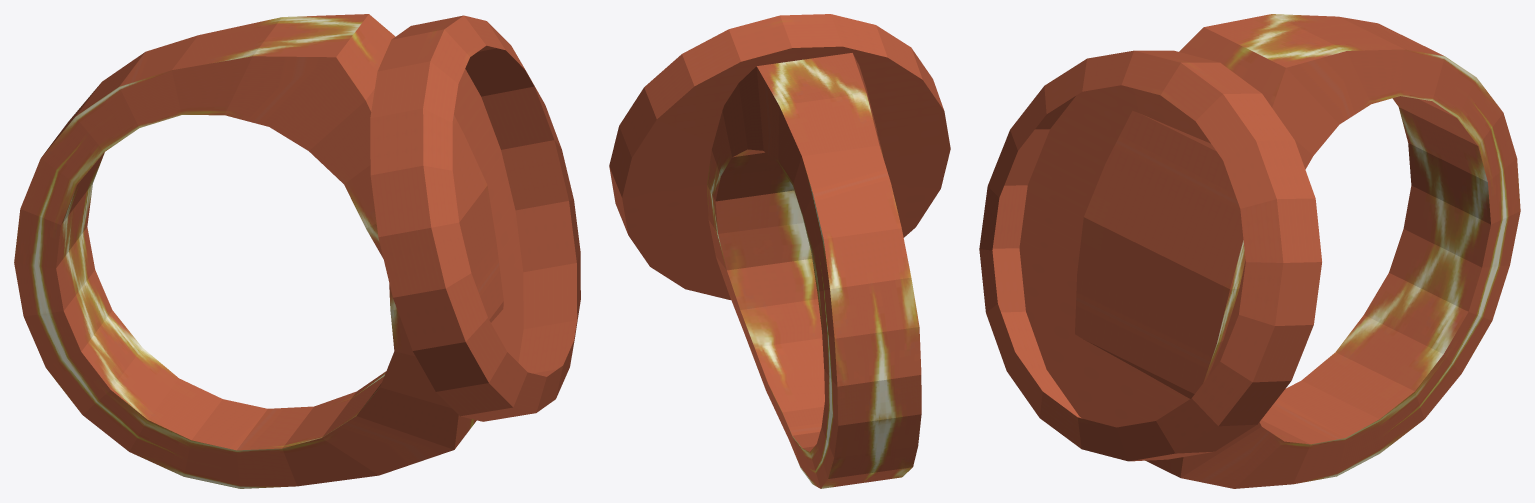
3 views of the same model, side by side, from view 1: azimuth 30°, elevation 25°; view 2: azimuth 150°, elevation 25°; view 3: azimuth 270°, elevation 25° (orthographic). The views are drawn at different scales.
Visible parts, largest first — view 1: Bone001; view 2: Bone001; view 3: Bone001.
Boxes of the visible parts, x1,y1,x2,y2 form: Bone001: (14, 14, 580, 488); Bone001: (609, 14, 950, 488); Bone001: (979, 14, 1520, 488).
Bounding box in the file's own units: 15.14 × 15.21 × 14.38.
